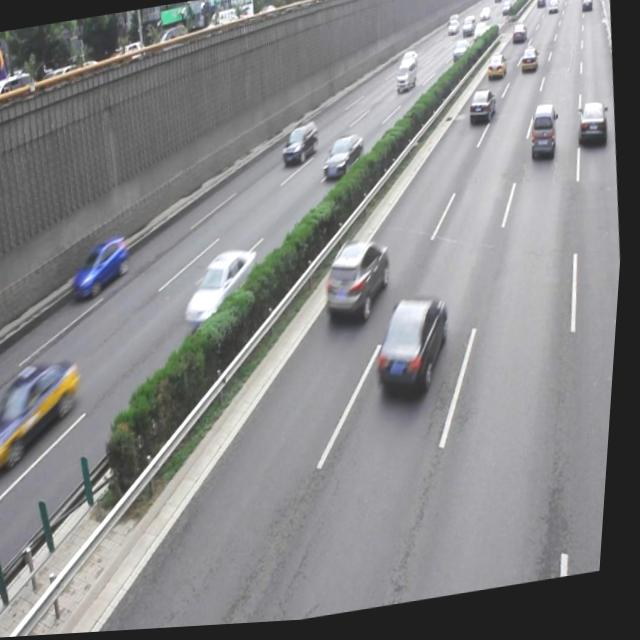car: (0, 354, 93, 481), (371, 294, 459, 406), (183, 245, 267, 333), (321, 236, 399, 329), (70, 233, 136, 300), (321, 134, 368, 184), (280, 120, 323, 170), (575, 105, 610, 155), (466, 91, 499, 135)
truck: (527, 108, 561, 170)
